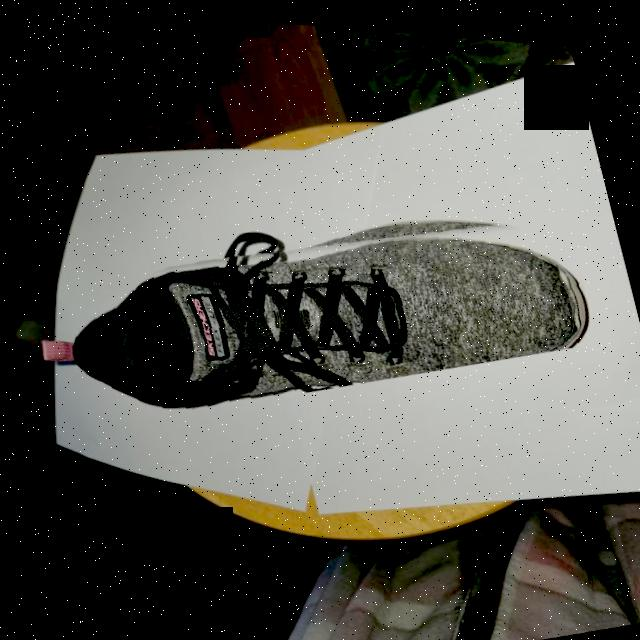shoe: (50, 150, 600, 460)
